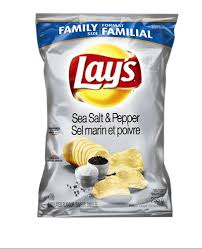lays-large: (33, 8, 176, 220)
